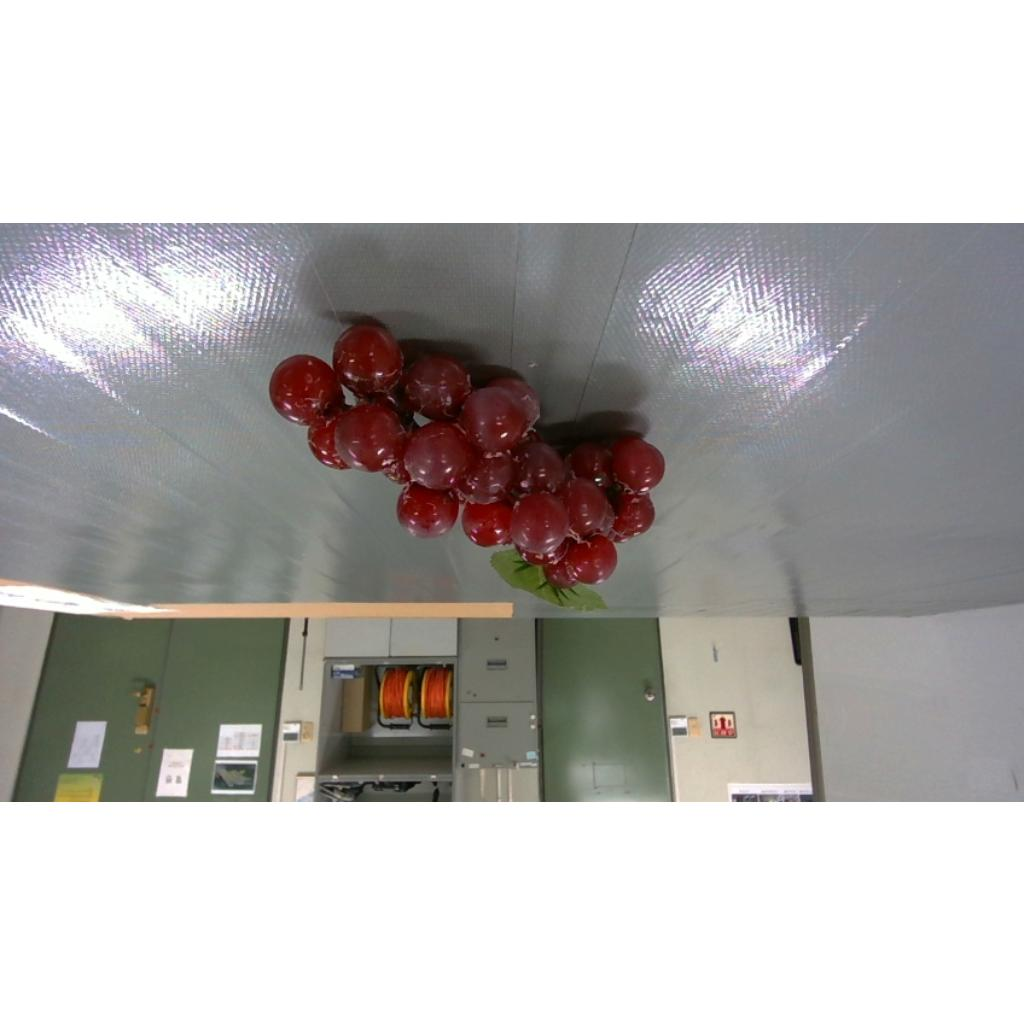grape: (270, 324, 664, 609)
